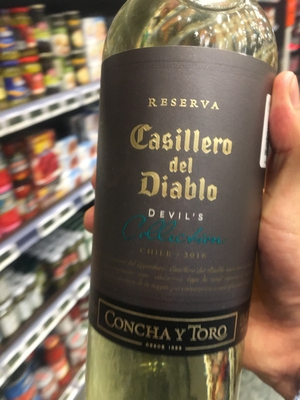casillero del diablo devils collection verde: (83, 2, 278, 398)
